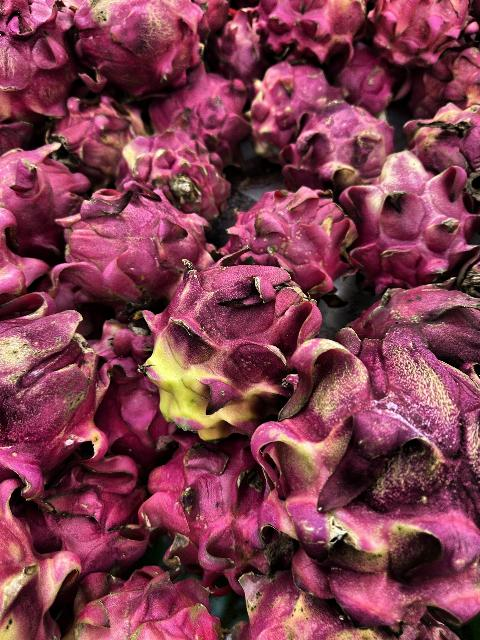buah-naga-belum-matang: (268, 312, 480, 618), (150, 248, 306, 426), (0, 290, 114, 486), (340, 149, 476, 283), (236, 570, 460, 640), (1, 474, 74, 640), (118, 128, 230, 216), (396, 104, 480, 194), (238, 67, 326, 147), (52, 98, 138, 176)
buah-naga-matang: (132, 426, 272, 564), (61, 182, 197, 288), (68, 562, 222, 640), (65, 1, 202, 88), (36, 456, 138, 572), (226, 185, 344, 282), (348, 277, 480, 355), (0, 0, 78, 116), (0, 144, 86, 246), (289, 103, 387, 181), (150, 74, 250, 150), (252, 0, 366, 60), (367, 1, 473, 62), (408, 41, 480, 111), (334, 50, 394, 116), (214, 5, 264, 76)
